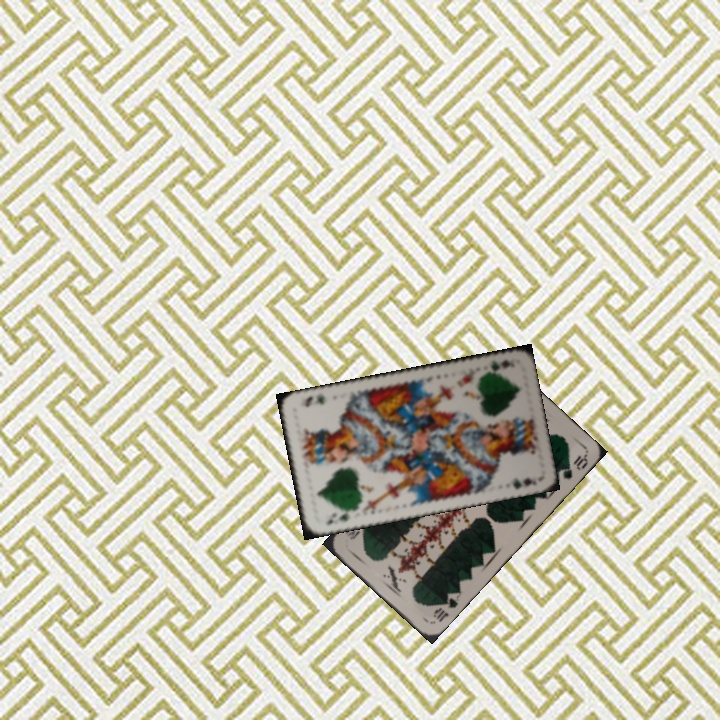G10: (429, 588, 462, 625)
GK: (479, 355, 518, 376), (322, 506, 355, 527)
